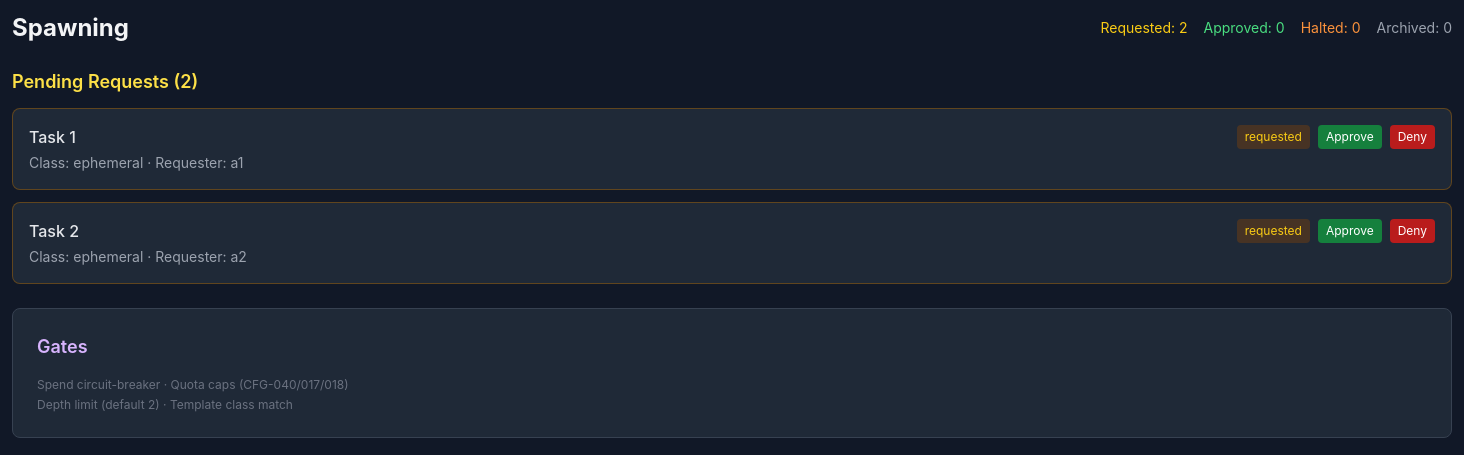
Scenario: Spawning page › shows confirm dialog per request when multiple pending exist
expect the text "Requested: 2" is shown: met, box top-left (1100, 18), bottom-right (1188, 38)
Click the button "Approve" in the row of "Task 1": (1350,137) top-left (1318, 125), bottom-right (1382, 149)
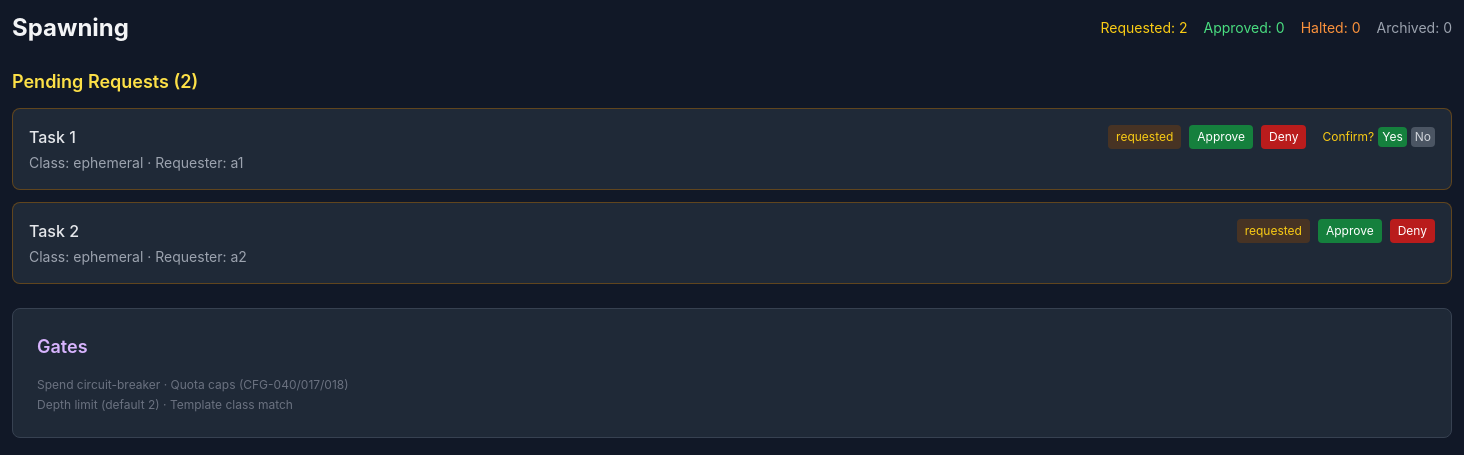
expect the text "Confirm?" is shown: met, box top-left (1322, 129), bottom-right (1374, 145)
